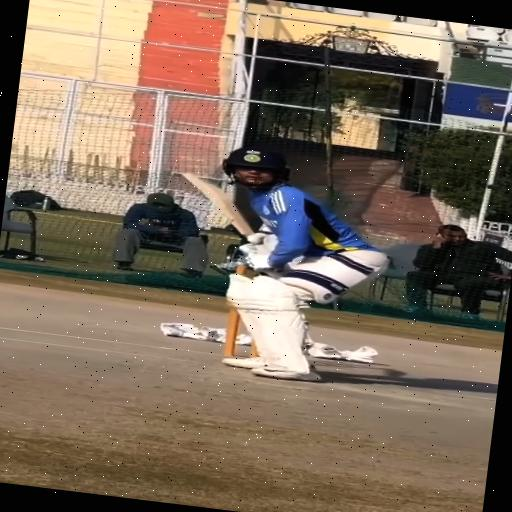Cricket bat: (181, 173, 253, 236)
